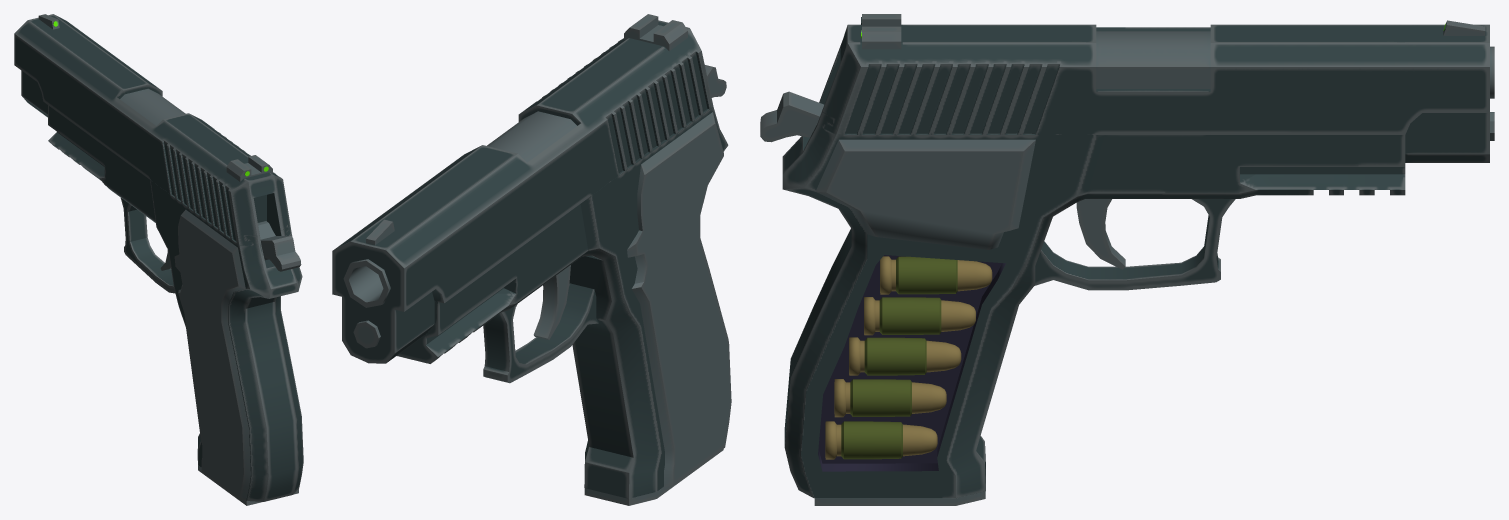
File: P266-gun.fbx
3 views of the same model, side by side, from view 1: azimuth 30°, elevation 25°; view 2: azimuth 150°, elevation 25°; view 3: azimuth 270°, elevation 25° (orthographic). The views are drawn at different scales.
Visible parts, largest first — view 1: P226.002, slide.002, Hammer.002; view 2: P226.002, slide.002, Trigger.003; view 3: P226.002, slide.002, bullet-1.005, bullet-1.003, bullet-1.004, bullet-1.001, bullet-1.002, Hammer.002, Trigger.003.
Boxes of the visible parts, box(x1,y1,x2,y2) form: P226.002: box(48, 88, 303, 505); slide.002: box(14, 14, 291, 245); Hammer.002: box(258, 221, 301, 271); P226.002: box(343, 106, 731, 505); slide.002: box(332, 14, 713, 363); Trigger.003: box(533, 265, 570, 339); P226.002: box(782, 31, 1494, 505); slide.002: box(822, 14, 1489, 162); bullet-1.005: box(825, 421, 937, 459); bullet-1.003: box(849, 337, 961, 375); bullet-1.004: box(834, 379, 946, 417); bullet-1.001: box(864, 297, 975, 335); bullet-1.002: box(880, 256, 992, 294); Hammer.002: box(760, 91, 823, 142); Trigger.003: box(1076, 199, 1125, 269).
Size of the model in its own units: 0.4244 by 2.07 by 2.97.
